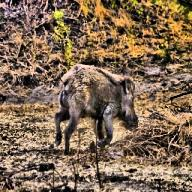boar: (54, 63, 138, 155)
